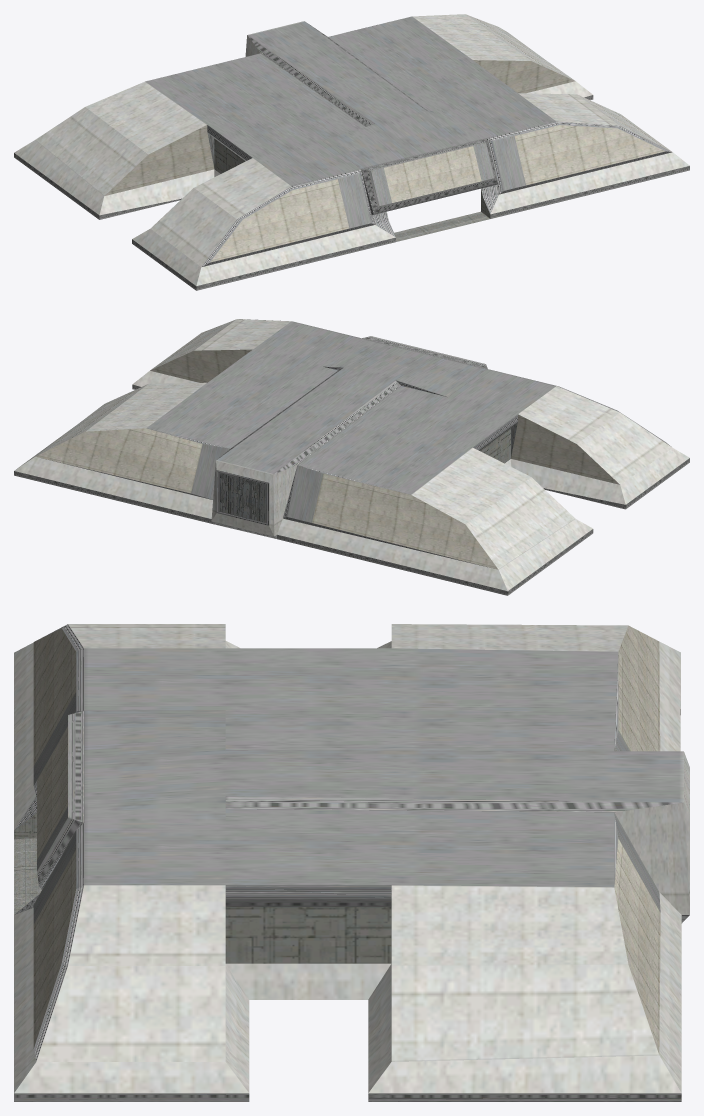
Rendered from mun_corl_cloning_s01_r0_mesh_l2.fbx.
The picture shows the model from 3 angles, top to bottom: view 1: azimuth 30°, elevation 25°; view 2: azimuth 150°, elevation 25°; view 3: azimuth 270°, elevation 25°; orthographic projection. The views are drawn at different scales.
Parts seen in each view (by area): view 1: mesh_node; view 2: mesh_node; view 3: mesh_node.
Boxes of the visible parts, x1=… form: mesh_node: x1=14, y1=14, x2=689, y2=290; mesh_node: x1=14, y1=319, x2=689, y2=595; mesh_node: x1=14, y1=624, x2=689, y2=1101.
Bounding box in the file's own units: 62.92 × 8.14 × 40.77.
